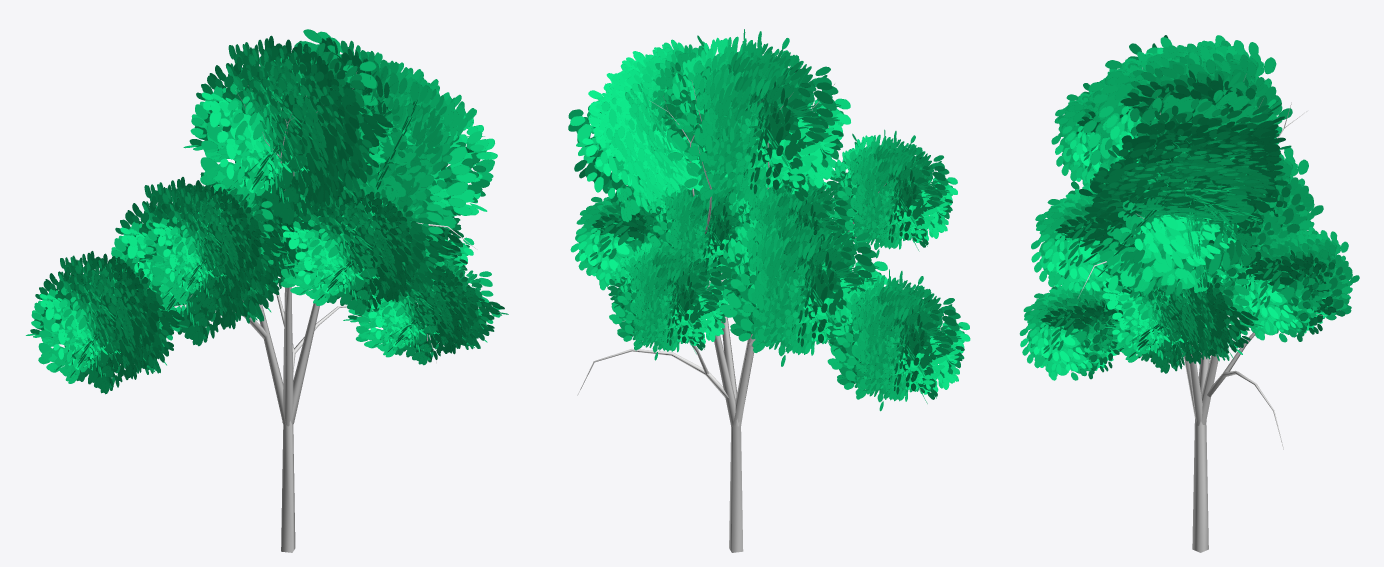
Rendered from Дерево.fbx.
3 renders of one model, left to right at view 1: azimuth 30°, elevation 25°; view 2: azimuth 150°, elevation 25°; view 3: azimuth 270°, elevation 25°, orthographic.
Visible parts, largest first — view 1: Plane.003, tree; view 2: Plane.003, tree; view 3: Plane.003, tree.
Boxes of the visible parts, x1,y1,x2,y2 form: Plane.003: (26,29,508,394); tree: (125,71,476,552); Plane.003: (568,29,970,411); tree: (577,54,928,552); Plane.003: (1019,35,1359,380); tree: (1071,67,1325,552).
Size of the model in its own units: 5939 by 6824 by 4298.
